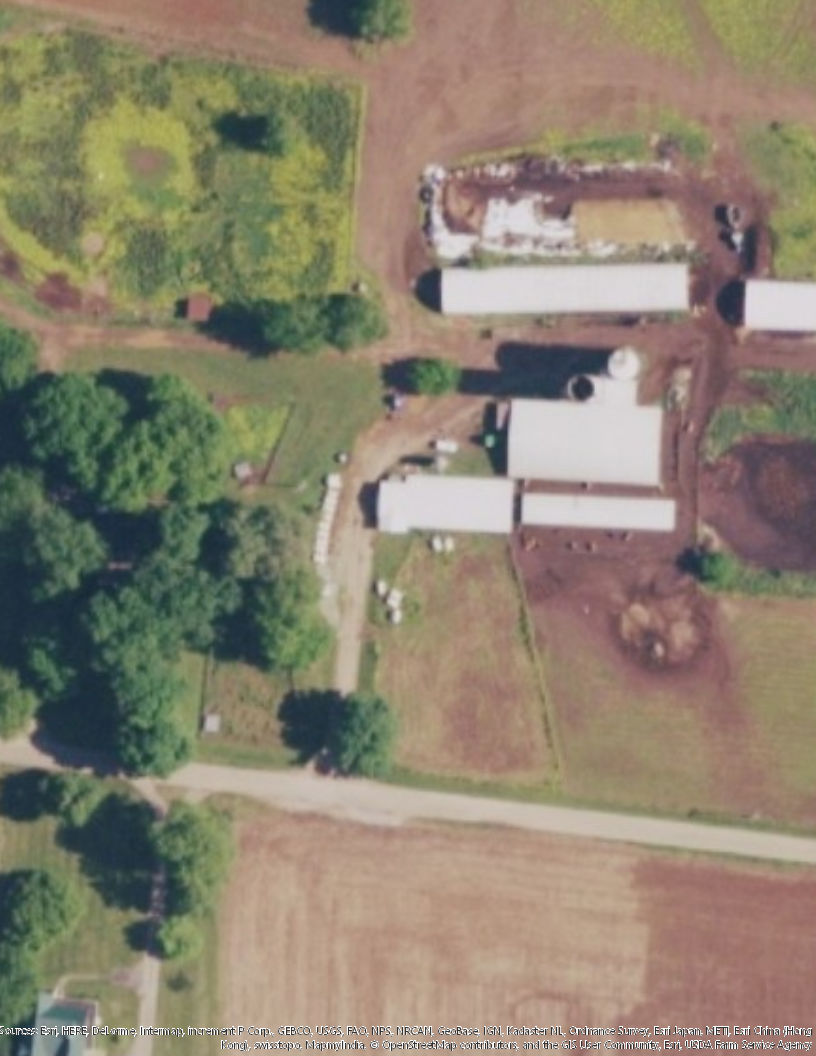cafo: (497, 390, 683, 537), (427, 251, 704, 318), (370, 465, 521, 538), (729, 274, 816, 337)
